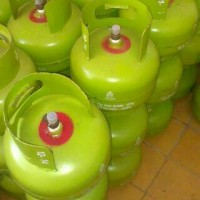gas_ijo: (3, 74, 112, 197), (71, 1, 158, 111), (4, 1, 85, 72), (1, 23, 38, 132), (147, 1, 200, 49), (102, 104, 148, 154), (148, 54, 183, 103), (104, 151, 145, 190), (144, 99, 175, 138)
